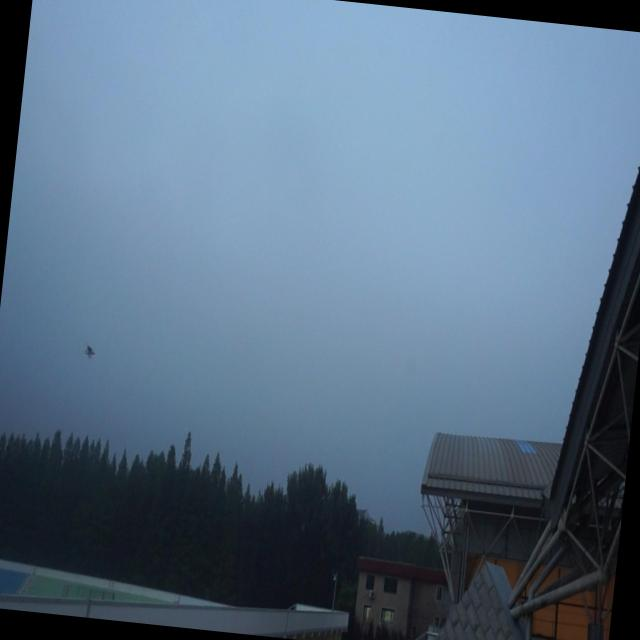drone: (82, 342, 97, 359)
